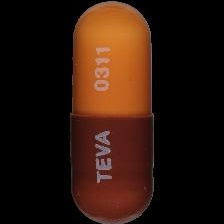43063-020: (0, 0, 224, 224)
